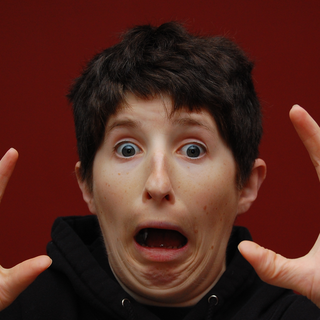eye: (108, 136, 147, 163), (173, 136, 210, 163)
